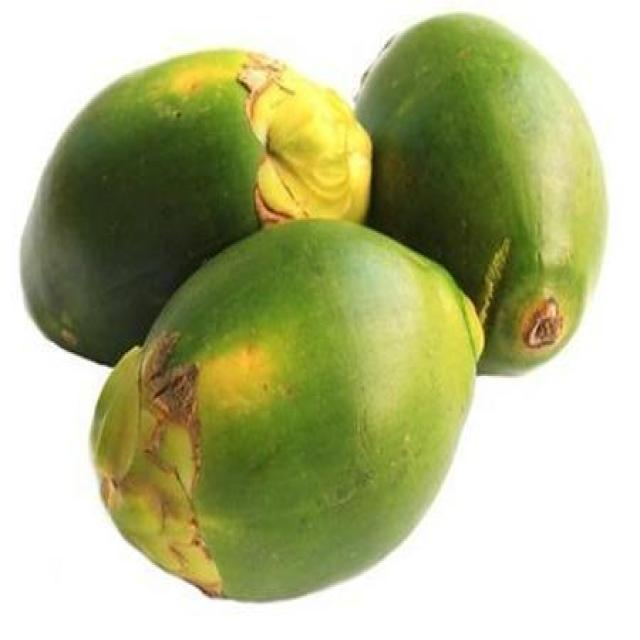good: (88, 220, 486, 603), (18, 50, 373, 369), (354, 15, 609, 378)
